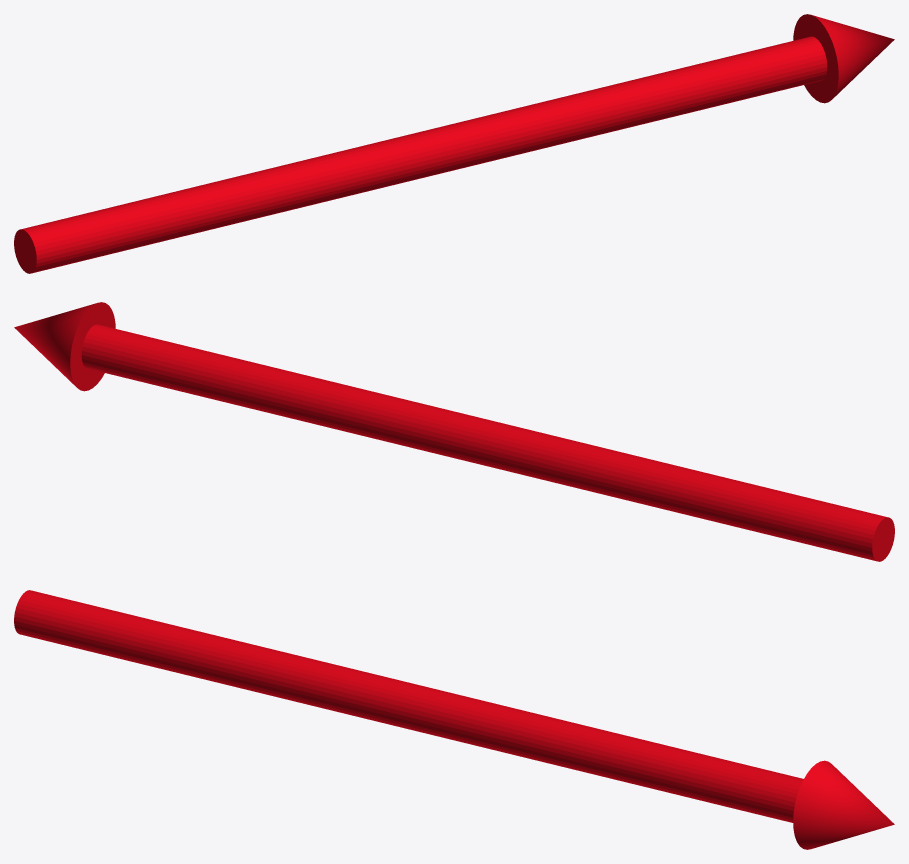
Rendered from RedXArrow.glb.
3 renders of one model, top to bottom at view 1: azimuth 30°, elevation 25°; view 2: azimuth 150°, elevation 25°; view 3: azimuth 330°, elevation 25°, orthographic.
Visible parts, largest first — view 1: Cylinder, Cone; view 2: Cylinder, Cone; view 3: Cylinder, Cone.
Part boxes in pixels (x1=…): Cylinder: x1=14, y1=36, x2=827, y2=273; Cone: x1=793, y1=14, x2=894, y2=103; Cylinder: x1=81, y1=324, x2=894, y2=561; Cone: x1=14, y1=302, x2=115, y2=391; Cylinder: x1=14, y1=590, x2=803, y2=822; Cone: x1=793, y1=760, x2=894, y2=849.
Bounding box in the file's own units: 2.2 × 0.2 × 0.2.
